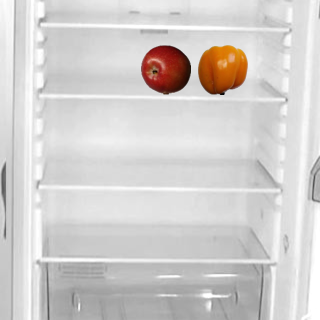Apple Braeburn: (140, 44, 190, 94)
Pepper Yellow: (197, 44, 247, 94)
